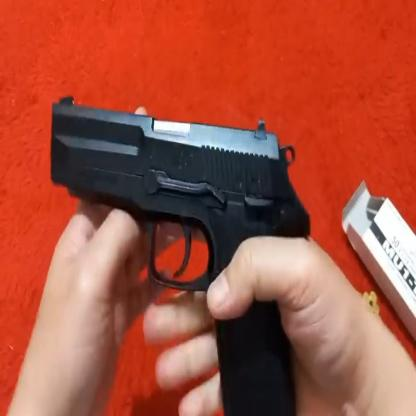handgun: (43, 92, 297, 416)
